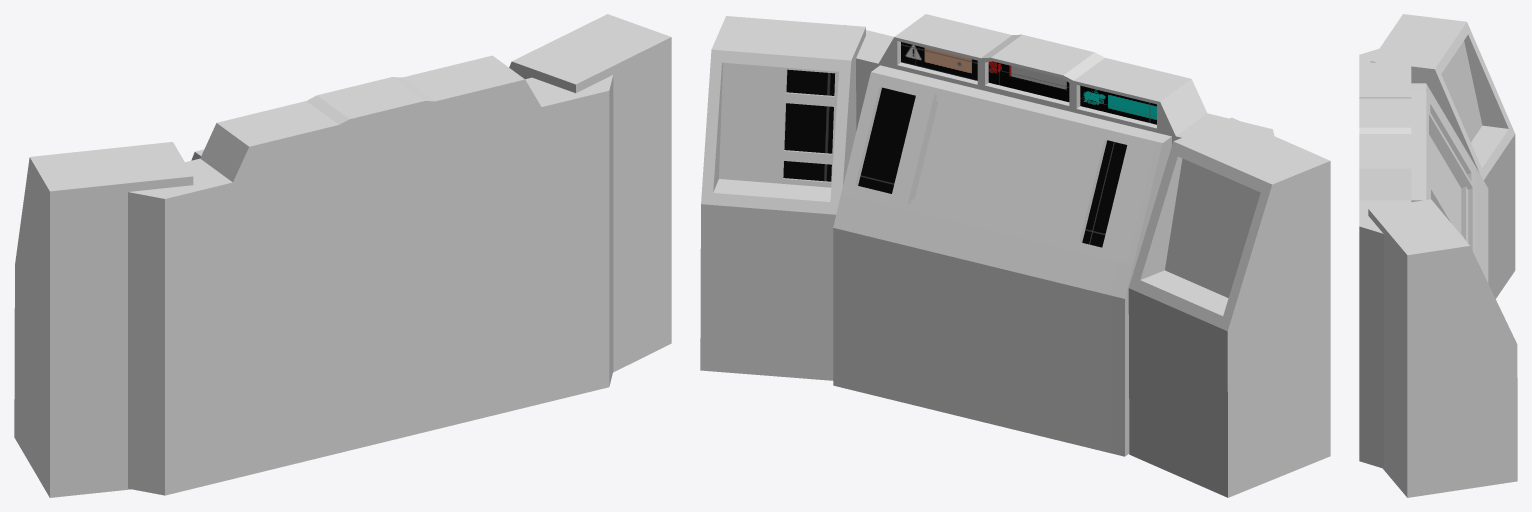
Rendered from SM_Layout.fbx.
3 views of the same model, side by side, from view 1: azimuth 30°, elevation 25°; view 2: azimuth 150°, elevation 25°; view 3: azimuth 270°, elevation 25° (orthographic). The views are drawn at different scales.
Visible parts, largest first — view 1: BackPanel, Heal, StartHavest; view 2: CentralConsole, Heal, StartHavest, BackPanel; view 3: StartHavest, Heal, BackPanel, CentralConsole.
Boxes of the visible parts, box(x1,y1,x2,y2) form: BackPanel: box(128, 55, 613, 495); Heal: box(14, 142, 193, 497); StartHavest: box(509, 14, 671, 372); CentralConsole: box(833, 65, 1171, 456); Heal: box(1128, 117, 1330, 497); StartHavest: box(700, 16, 865, 380); BackPanel: box(844, 14, 1274, 144); StartHavest: box(1368, 199, 1517, 497); Heal: box(1370, 14, 1515, 298); BackPanel: box(1359, 49, 1411, 468); CentralConsole: box(1411, 83, 1488, 282).
Bounding box in the file's own units: 4.08 × 2.08 × 1.13.
Materials: 2 (2 with a texture image).
